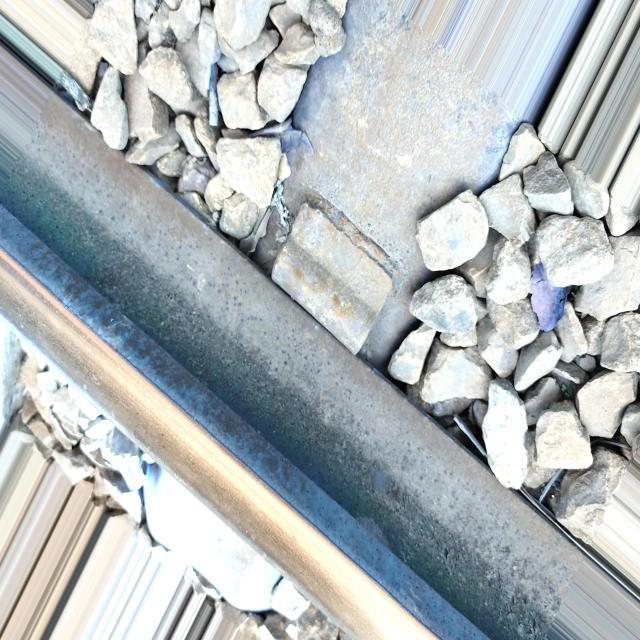Missing Fastener: (258, 186, 406, 377)
